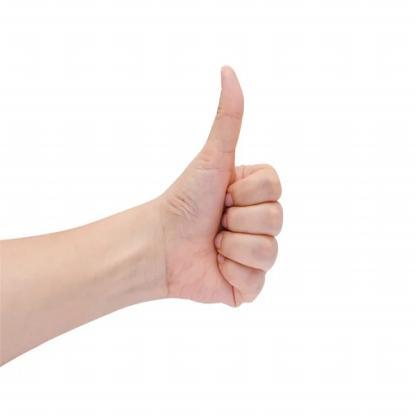thumb_up: (162, 61, 286, 307)
